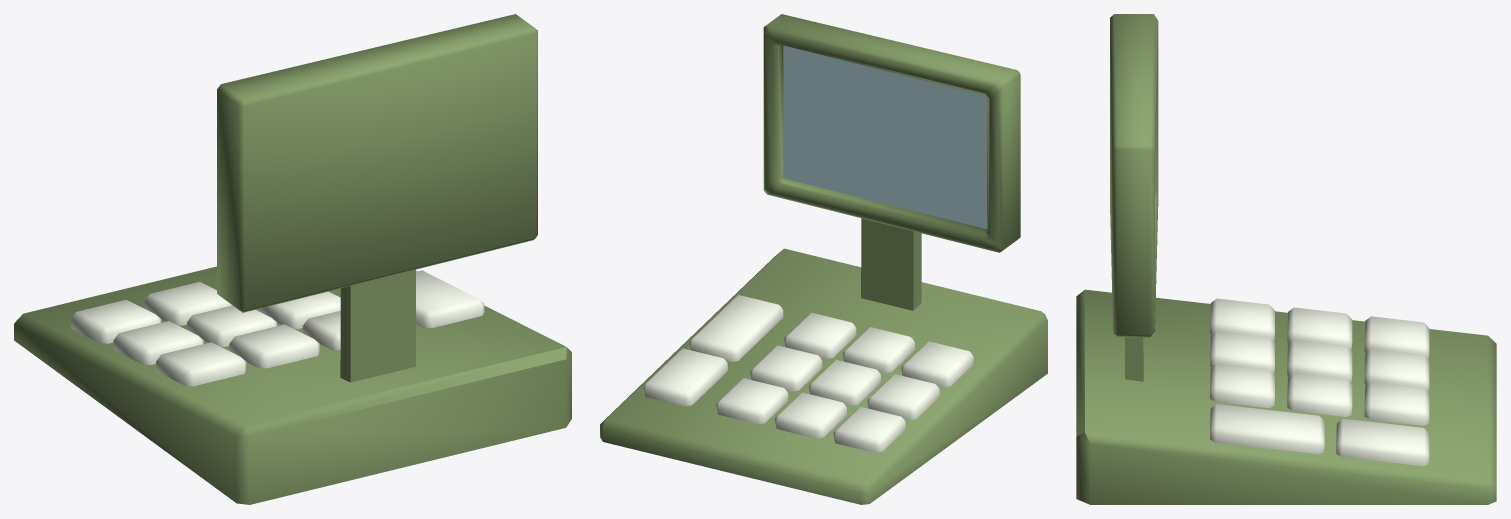
Rendered from Bakery_CashRegister_01.fbx.
3 renders of one model, left to right at view 1: azimuth 30°, elevation 25°; view 2: azimuth 150°, elevation 25°; view 3: azimuth 270°, elevation 25°, orthographic. The views are drawn at different scales.
Parts seen in each view (by area): view 1: Bakery_CashRegister_01; view 2: Bakery_CashRegister_01; view 3: Bakery_CashRegister_01.
Part boxes in pixels (x1=…): Bakery_CashRegister_01: x1=14, y1=14, x2=571, y2=504; Bakery_CashRegister_01: x1=600, y1=14, x2=1047, y2=504; Bakery_CashRegister_01: x1=1076, y1=14, x2=1496, y2=504.
Size of the model in its own units: 65.56 by 71.53 by 77.69.
